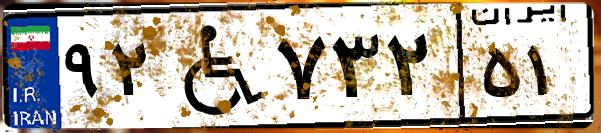1: (525, 38, 570, 115)
2: (385, 28, 445, 110), (110, 28, 158, 98)
3: (330, 28, 385, 110)
5: (475, 38, 525, 113)
7: (270, 28, 330, 110)
9: (57, 26, 110, 100)
ژ (معلولین و جانبازان): (158, 12, 270, 120)
